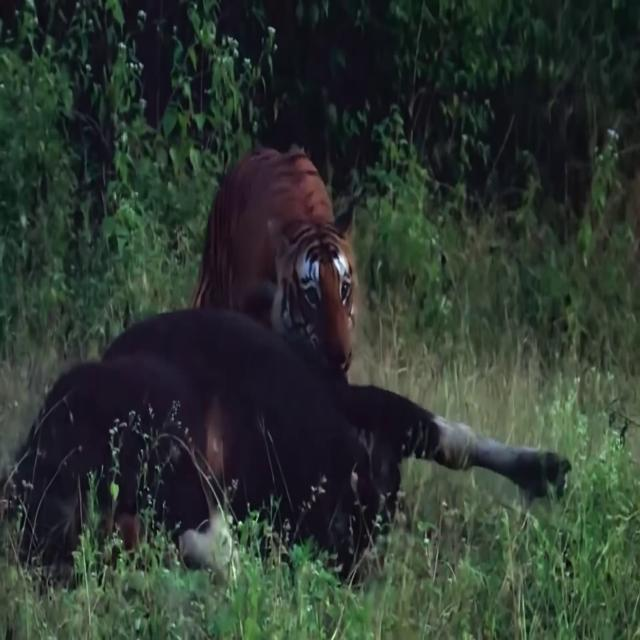tiger: (198, 141, 368, 378)
